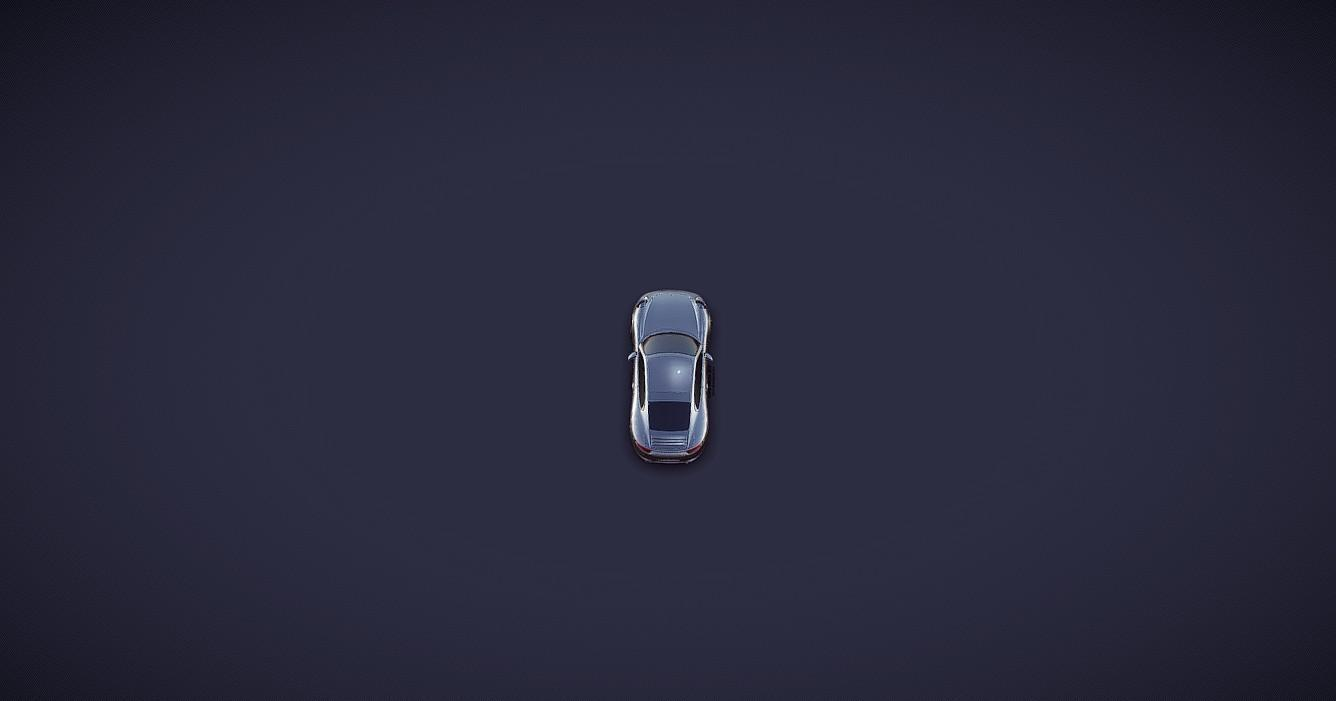Car: (626, 288, 713, 465)
